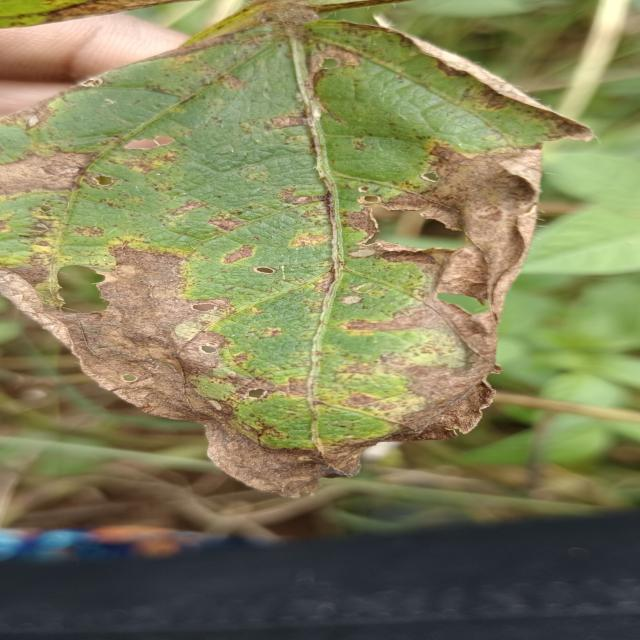Black gram_leaf spot: (0, 9, 612, 507)
